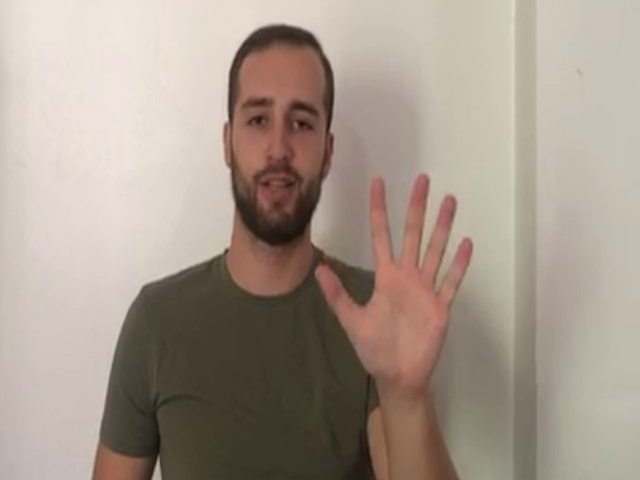Pet i Sedumnaeset: (311, 169, 478, 405)
